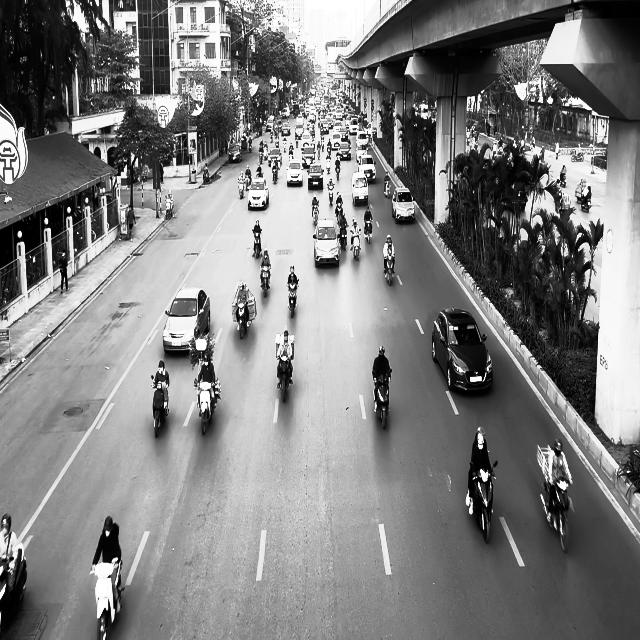car: (431, 306, 493, 393), (162, 287, 210, 353), (312, 220, 340, 268), (392, 187, 416, 222), (248, 176, 268, 210), (351, 172, 369, 206), (286, 159, 303, 186), (228, 144, 242, 162)
motorbike: (90, 558, 123, 640), (468, 460, 497, 543), (194, 377, 220, 435), (150, 374, 169, 438), (372, 369, 392, 429), (235, 300, 249, 339), (287, 280, 298, 317), (260, 264, 271, 297), (384, 254, 394, 285), (252, 229, 262, 258), (350, 231, 360, 260), (338, 225, 348, 250), (364, 219, 372, 244), (312, 202, 319, 224), (328, 182, 334, 205)
